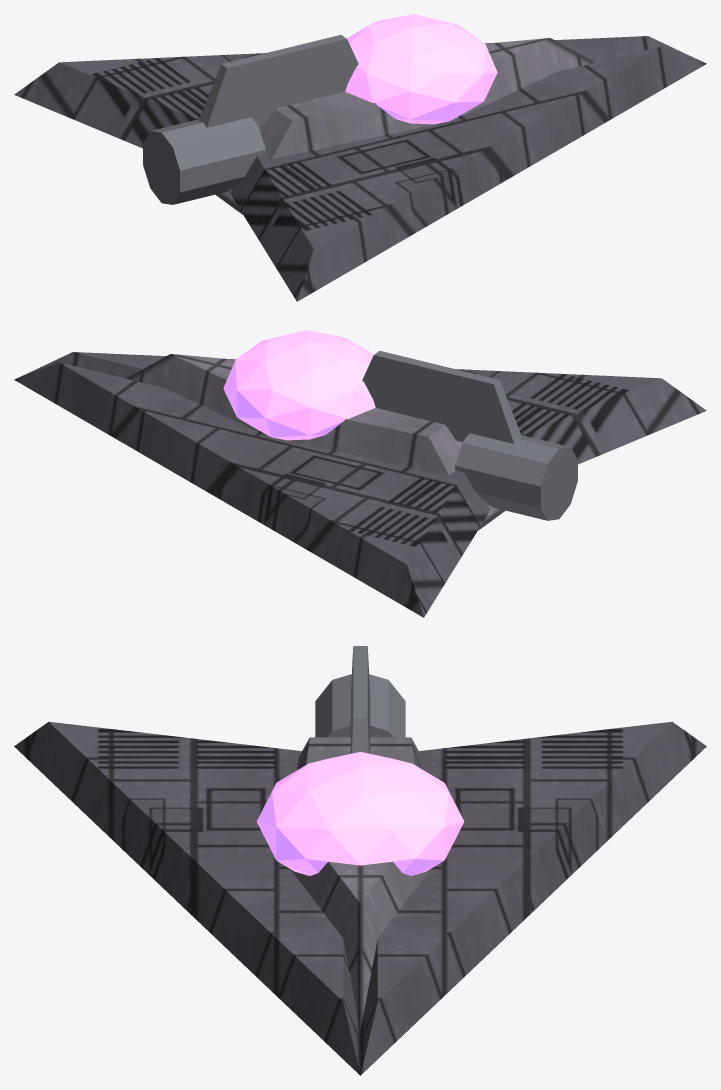
The model's file is dart_iris.glb.
3 renders of one model, top to bottom at view 1: azimuth 30°, elevation 25°; view 2: azimuth 150°, elevation 25°; view 3: azimuth 270°, elevation 25°, orthographic. The views are drawn at different scales.
Size of the model in its own units: 9 by 1.9 by 8.
5 materials, 2 textured.
